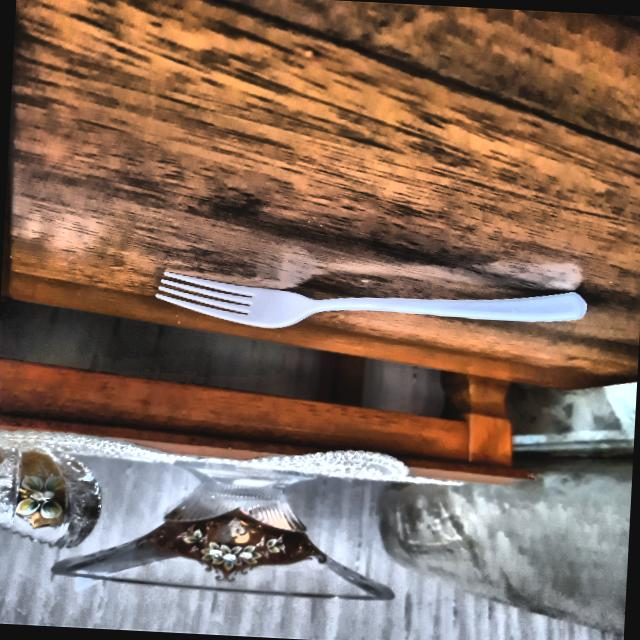plastic utensil: (145, 258, 580, 344)
